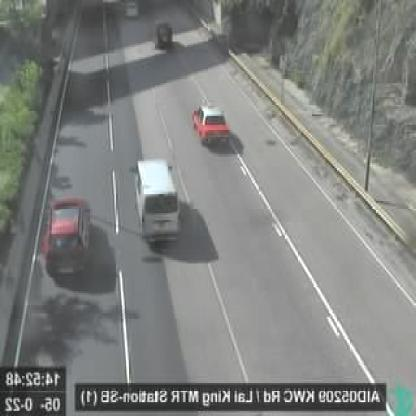Car: (134, 156, 181, 244), (44, 198, 90, 279), (193, 102, 228, 149), (156, 18, 174, 50)
